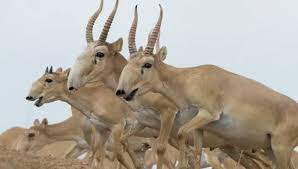saiga: (117, 3, 298, 167), (25, 61, 180, 169), (65, 1, 119, 105)
